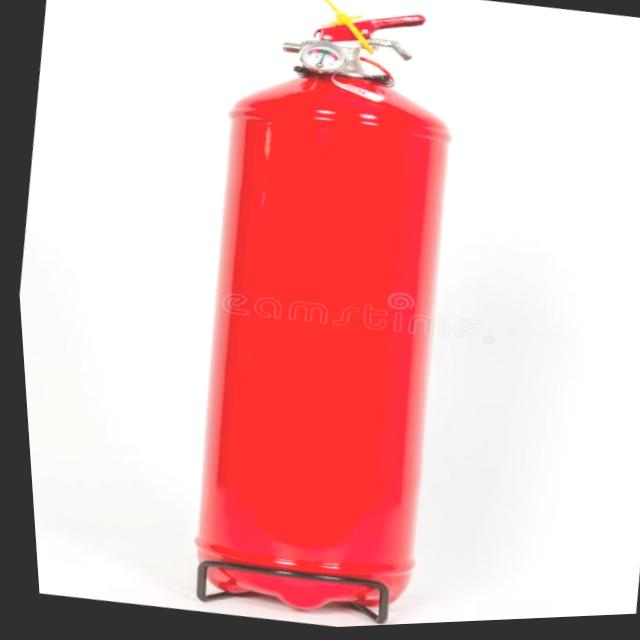FireExtinguisher: (138, 0, 506, 635)
